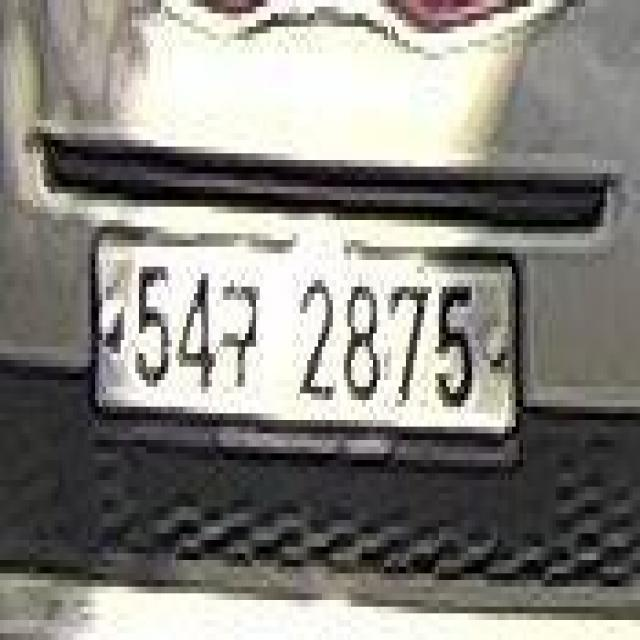2: (300, 270, 338, 420)
4: (176, 272, 222, 398)
5: (434, 284, 479, 412), (128, 264, 172, 389)
7: (388, 282, 431, 406)
8: (342, 280, 383, 408)
gu: (222, 272, 260, 397)
license_plate: (79, 216, 532, 482)
